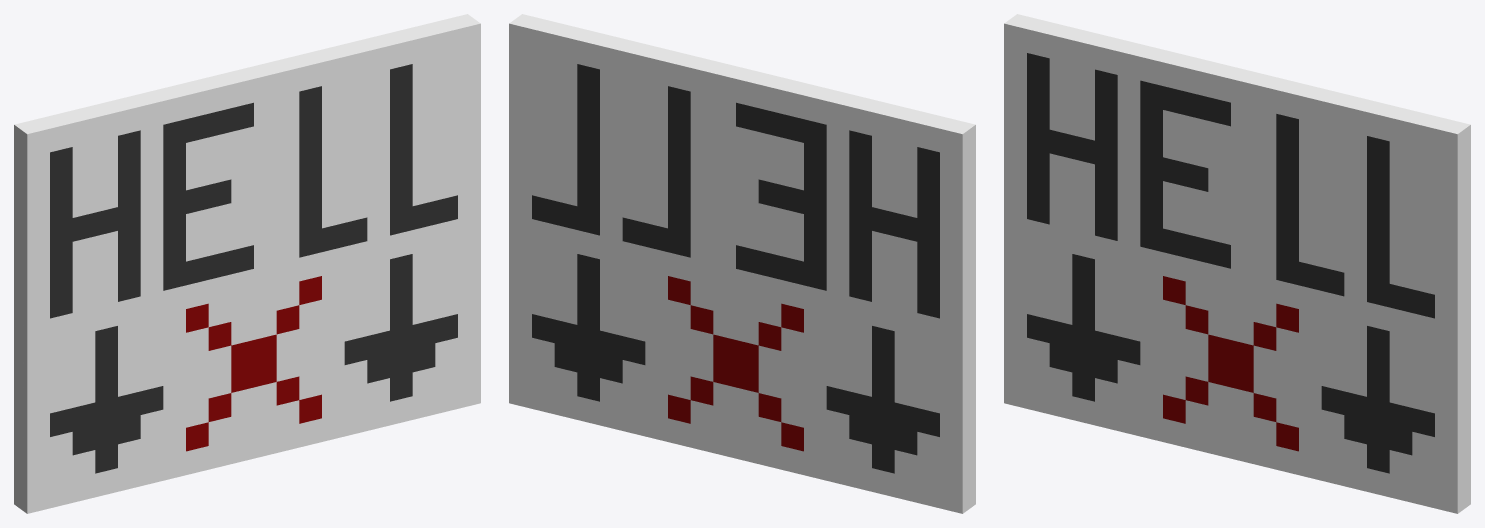
Rendered from hell_sign.obj.
3 renders of one model, left to right at view 1: azimuth 30°, elevation 25°; view 2: azimuth 150°, elevation 25°; view 3: azimuth 330°, elevation 25°, orthographic.
Visible parts, largest first — view 1: hell_sign; view 2: hell_sign; view 3: hell_sign.
Part boxes in pixels (x1,y1,x2,y2): hell_sign: (14, 14, 480, 513); hell_sign: (509, 14, 975, 513); hell_sign: (1004, 14, 1470, 513).
Size of the model in its own units: 20 by 16 by 1.
